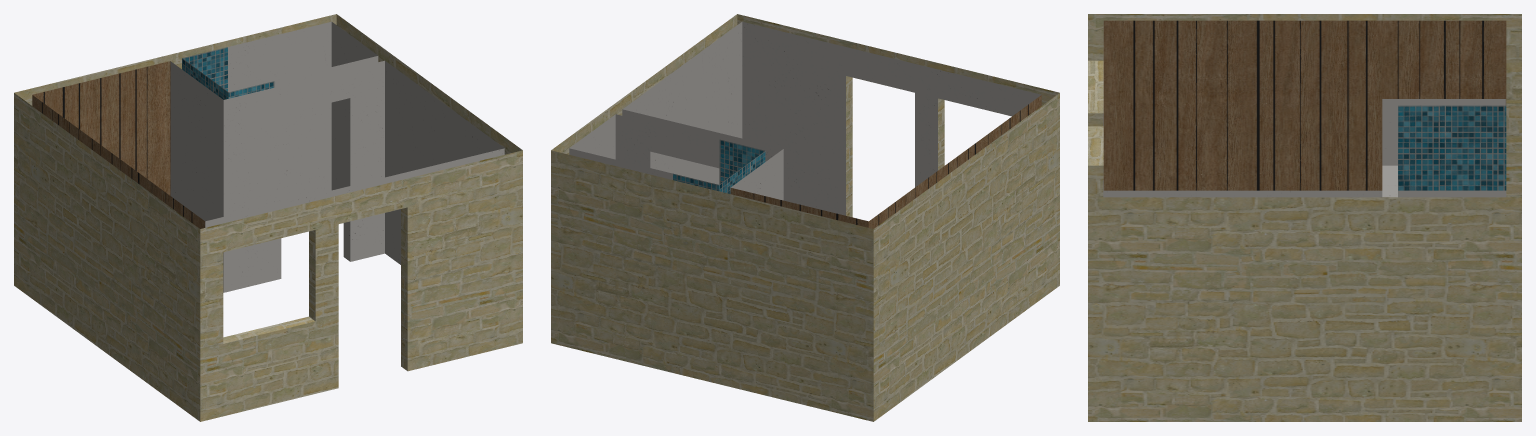
The model's file is HotelRoom.glb.
3 views of the same model, side by side, from view 1: azimuth 30°, elevation 25°; view 2: azimuth 150°, elevation 25°; view 3: azimuth 270°, elevation 25° (orthographic). The views are drawn at different scales.
Visible parts, largest first — view 1: Room; view 2: Room; view 3: Room.
Boxes of the visible parts, <box> form: Room: <box>14,14,522,421</box>; Room: <box>551,14,1059,421</box>; Room: <box>1088,14,1521,421</box>.
Size of the model in its own units: 4.27 by 2.44 by 4.27.
4 materials, 4 textured.
